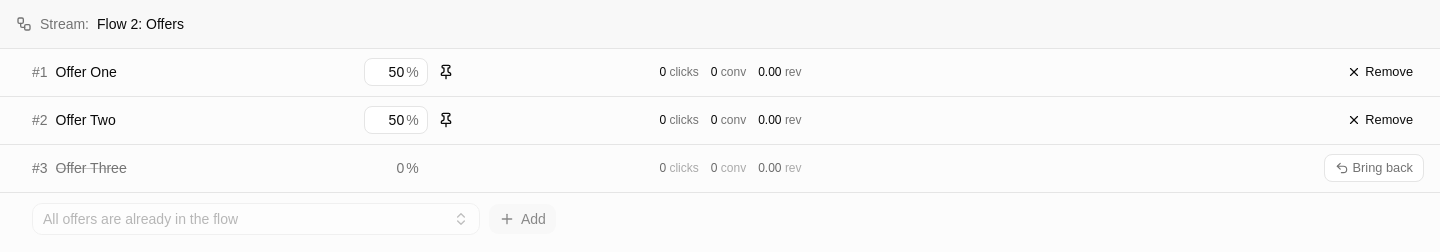
Test: OfferStreamRows › bring back + cancel restores the saved state
Click the button "Bring back" at point(1374, 168), box [1324,154,1424,182]
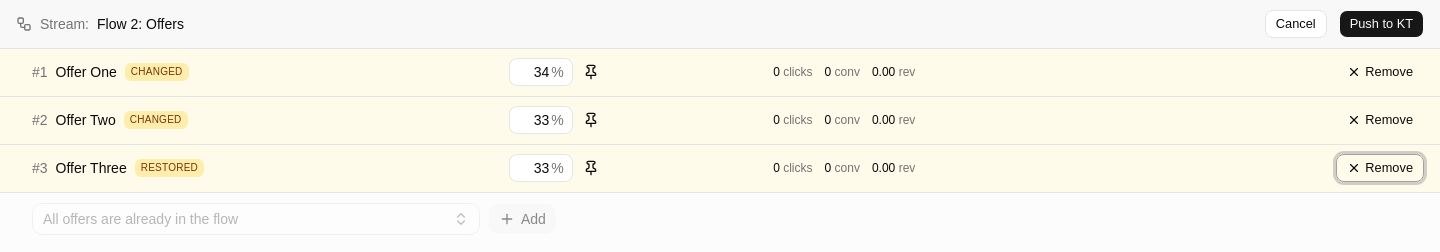
Click the button "Cancel" at point(1296, 24), box [1265,10,1327,38]
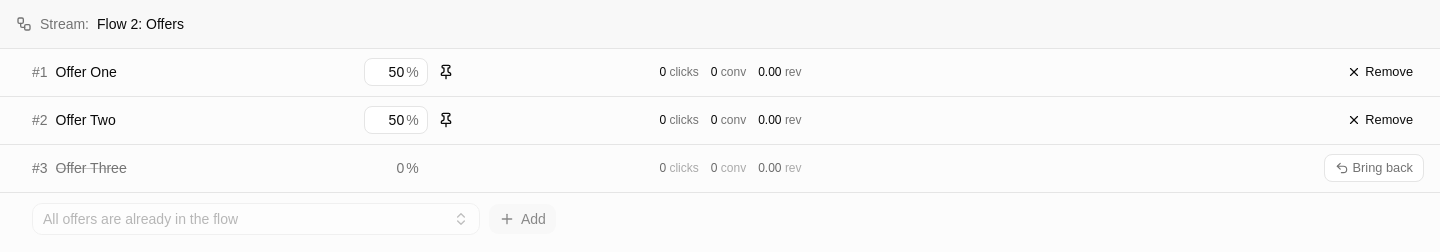
Now the button "Push to KT" is gone
